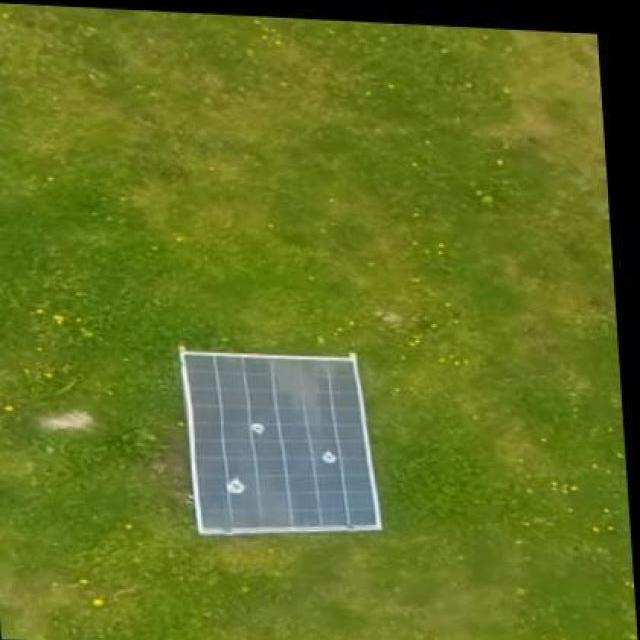soiled: (181, 346, 384, 538)
